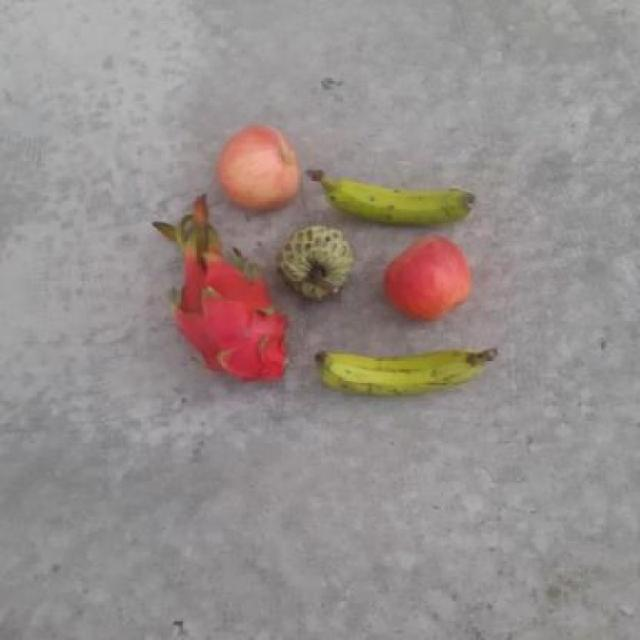apple: (382, 231, 478, 323), (213, 124, 305, 218)
banana: (311, 336, 489, 399), (315, 162, 483, 225)
dragon fruit: (170, 249, 295, 383)
sugar apple: (276, 221, 358, 307)
